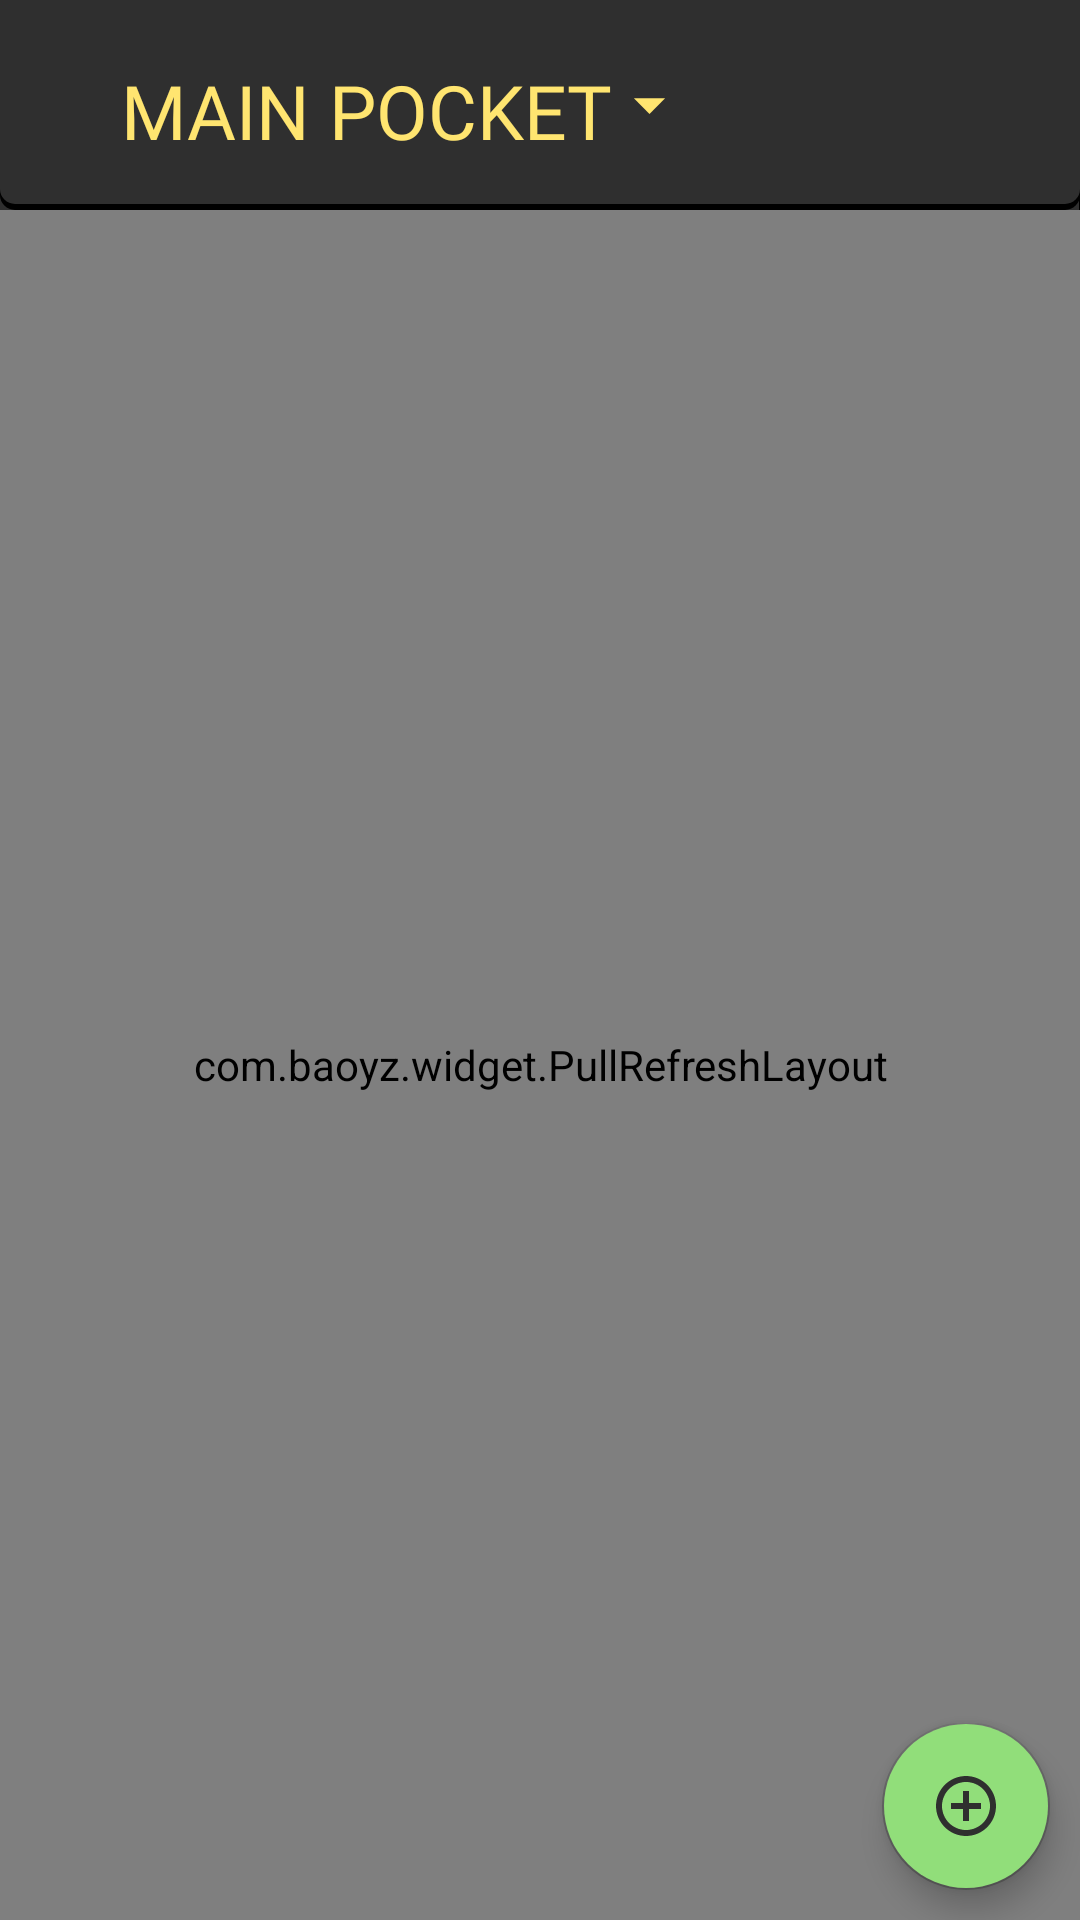

Where icons sit on this 1080px x 1920px app screen, as (x1, y1, x2, y2):
add: (882, 1724, 1050, 1890)
